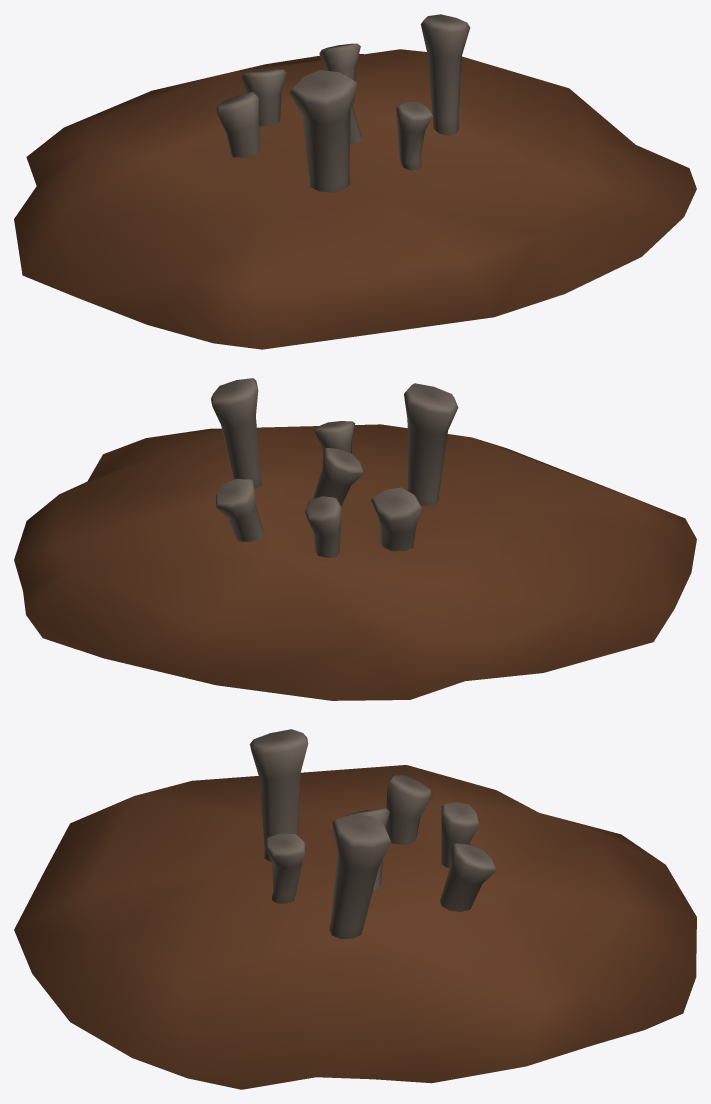
File: SM_PlantSoil_BlackTrumpet_Dead.fbx
3 renders of one model, top to bottom at view 1: azimuth 30°, elevation 25°; view 2: azimuth 150°, elevation 25°; view 3: azimuth 270°, elevation 25°, orthographic. The views are drawn at different scales.
Visible parts, largest first — view 1: SM_PlantSoil_BlackTrumpet_Dead; view 2: SM_PlantSoil_BlackTrumpet_Dead; view 3: SM_PlantSoil_BlackTrumpet_Dead.
Part boxes in pixels (<box>): SM_PlantSoil_BlackTrumpet_Dead: <box>14,14,696,349</box>; SM_PlantSoil_BlackTrumpet_Dead: <box>14,378,696,700</box>; SM_PlantSoil_BlackTrumpet_Dead: <box>14,729,696,1089</box>.
Size of the model in its own units: 118 by 30.05 by 106.
